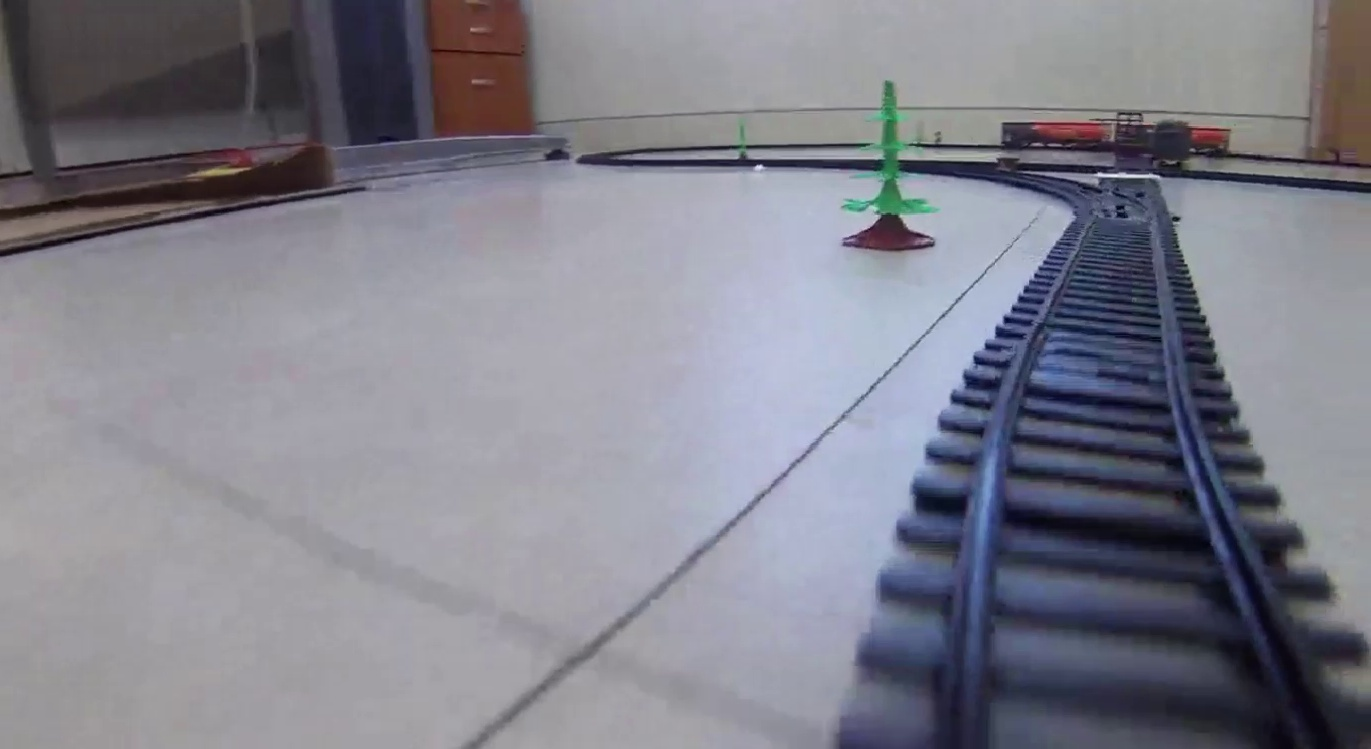tree: (838, 82, 934, 251)
